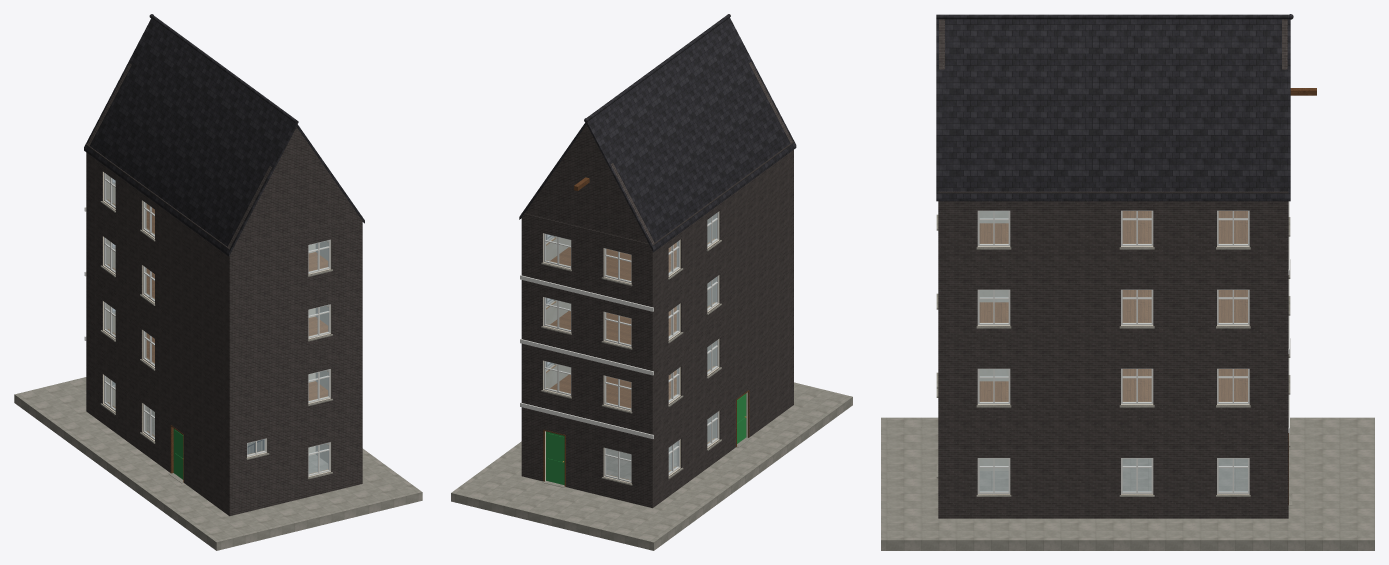
File: b_dutch_canal_house.gltf
The picture shows the model from 3 angles, left to right: view 1: azimuth 30°, elevation 25°; view 2: azimuth 150°, elevation 25°; view 3: azimuth 270°, elevation 25°; orthographic projection. The views are drawn at different scales.
Parts seen in each view (by area): view 1: S_dutch_canal_house, D_dutch_canal_house_F1_E2_Door0; view 2: S_dutch_canal_house, D_dutch_canal_house_F1_S1_Door0; view 3: S_dutch_canal_house.
Boxes of the visible parts, left/top/right/bottom form: S_dutch_canal_house: left=14, top=14, right=422, bottom=550; D_dutch_canal_house_F1_E2_Door0: left=173, top=428, right=183, bottom=479; S_dutch_canal_house: left=451, top=14, right=852, bottom=550; D_dutch_canal_house_F1_S1_Door0: left=546, top=431, right=564, bottom=485; S_dutch_canal_house: left=881, top=14, right=1374, bottom=550.
Size of the model in its own units: 10 by 18.05 by 17.
Materials: 18 (11 with a texture image).
